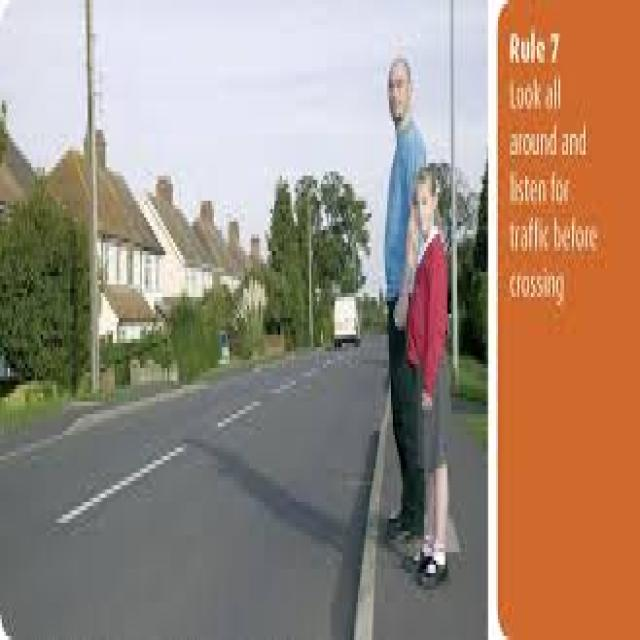Pedestrians: (383, 55, 422, 552), (409, 171, 455, 590)
